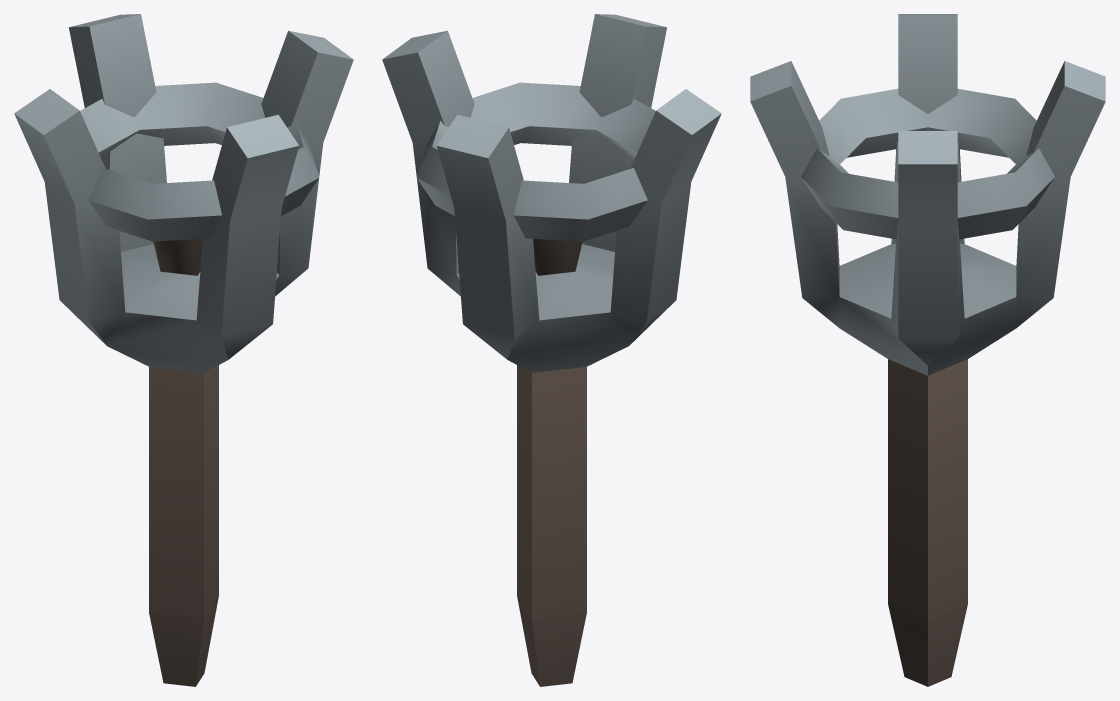
File: cc0-torch-lod0.glb
The picture shows the model from 3 angles, left to right: view 1: azimuth 30°, elevation 25°; view 2: azimuth 150°, elevation 25°; view 3: azimuth 270°, elevation 25°; orthographic projection.
Visible parts, largest first — view 1: part_0; view 2: part_0; view 3: part_0.
Boxes of the visible parts, x1,y1,x2,y2 form: part_0: (14, 14, 353, 686); part_0: (382, 14, 721, 686); part_0: (750, 14, 1105, 686).
Size of the model in its own units: 0.5503 by 1.04 by 0.5503.
1 material, 1 textured.
